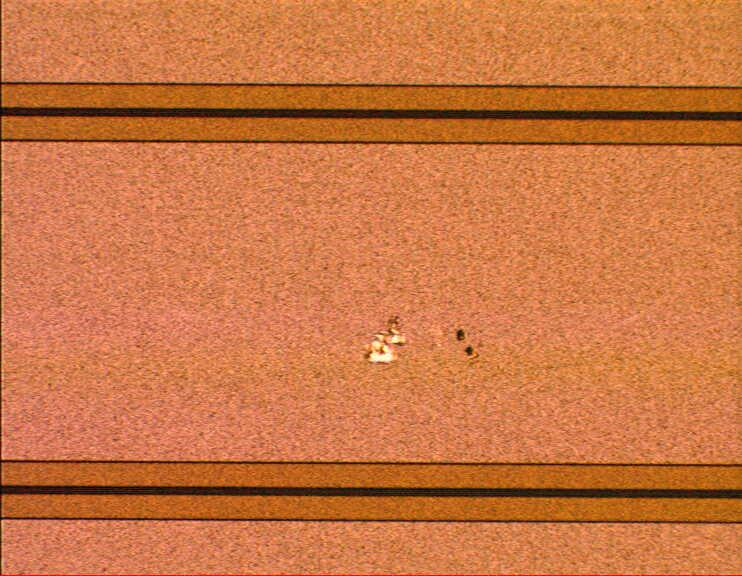SCRATCH: (353, 310, 500, 375)
